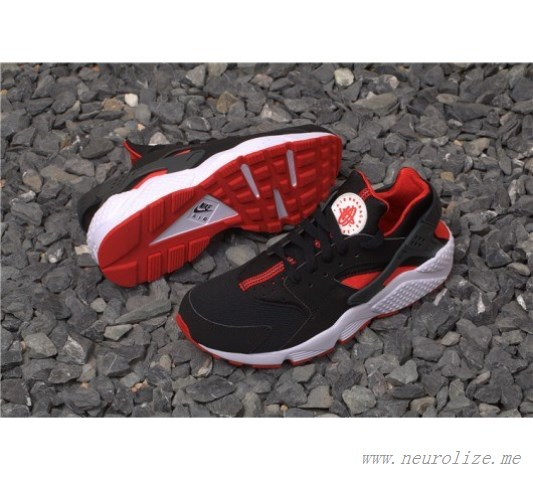Air Huarache Bred: (174, 161, 456, 372), (74, 121, 351, 297)
